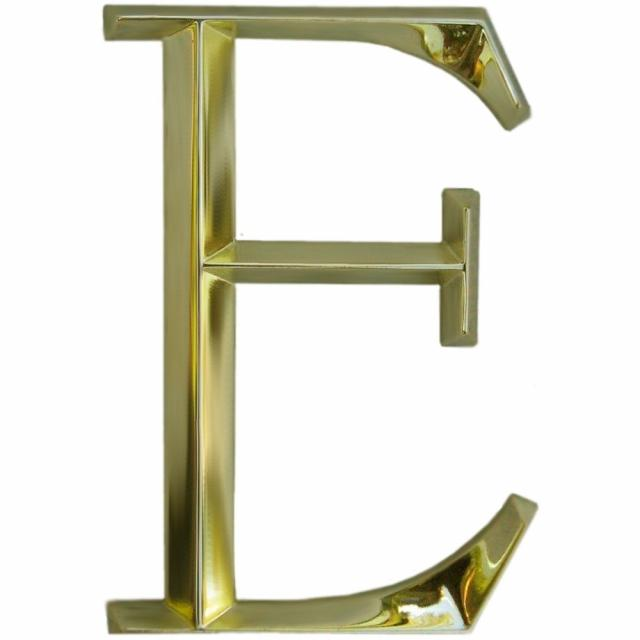E: (56, 0, 570, 640)
